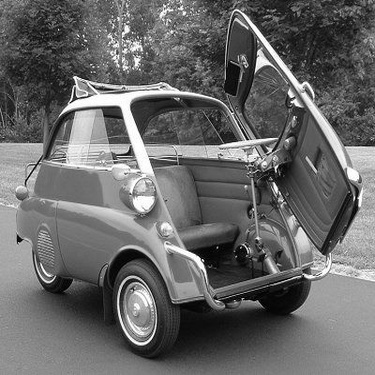car: (21, 43, 358, 327)
